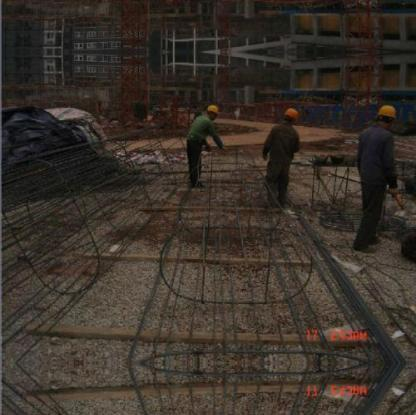helmet: (377, 104, 399, 119), (286, 108, 301, 122), (206, 104, 219, 115)
